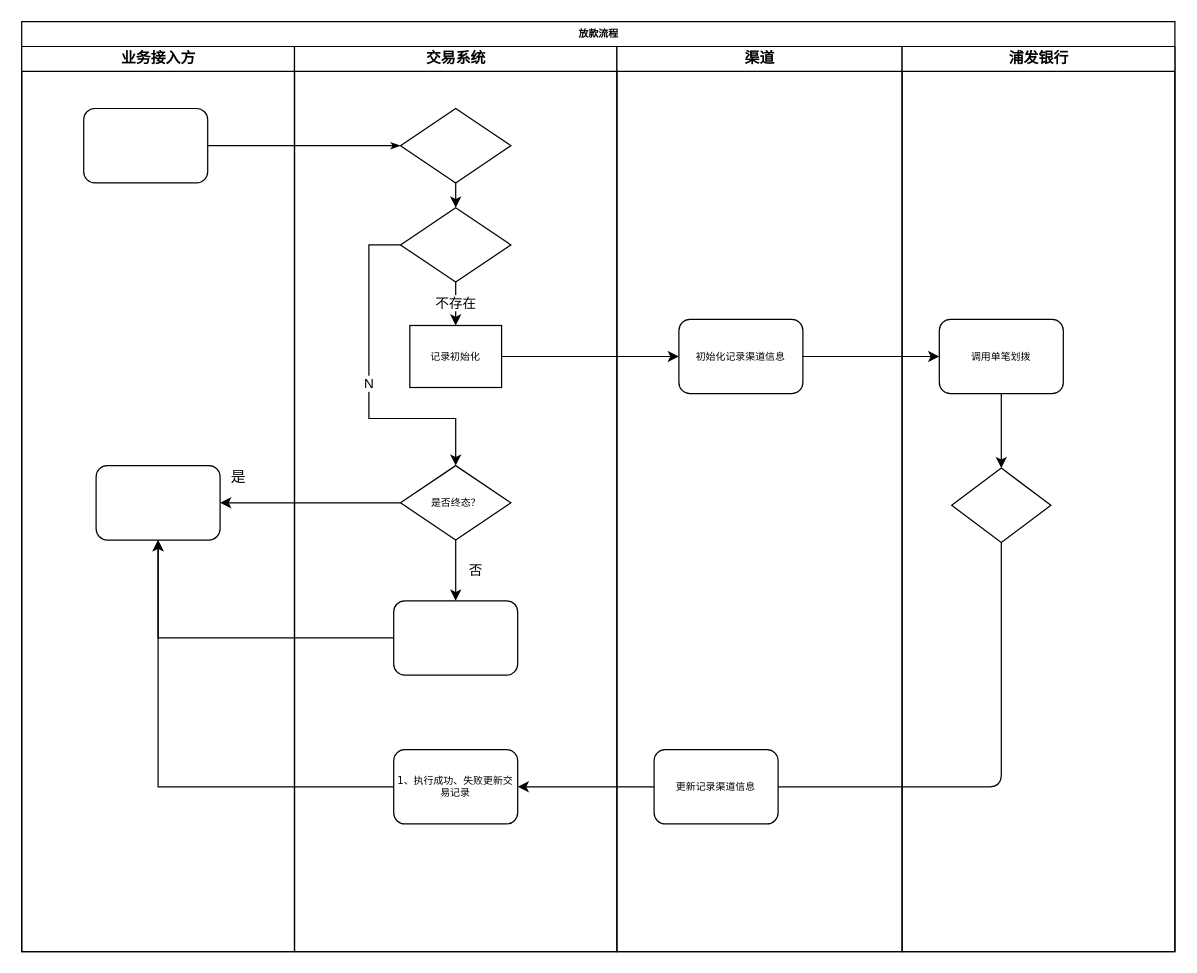
Some shapes in this 1197 by 973 pixel diagram are drawn without their labels. Here are the shapes that lost their labels. From the top down, the centre of each, then its label:
At point (145, 145): "放款请求".
At point (455, 145): "查询数据库".
At point (455, 244): "是否存在？".
At point (157, 502): "放款请求返回".
At point (1000, 504): "执行结果".
At point (455, 637): "执行查询单笔划拨流程".
